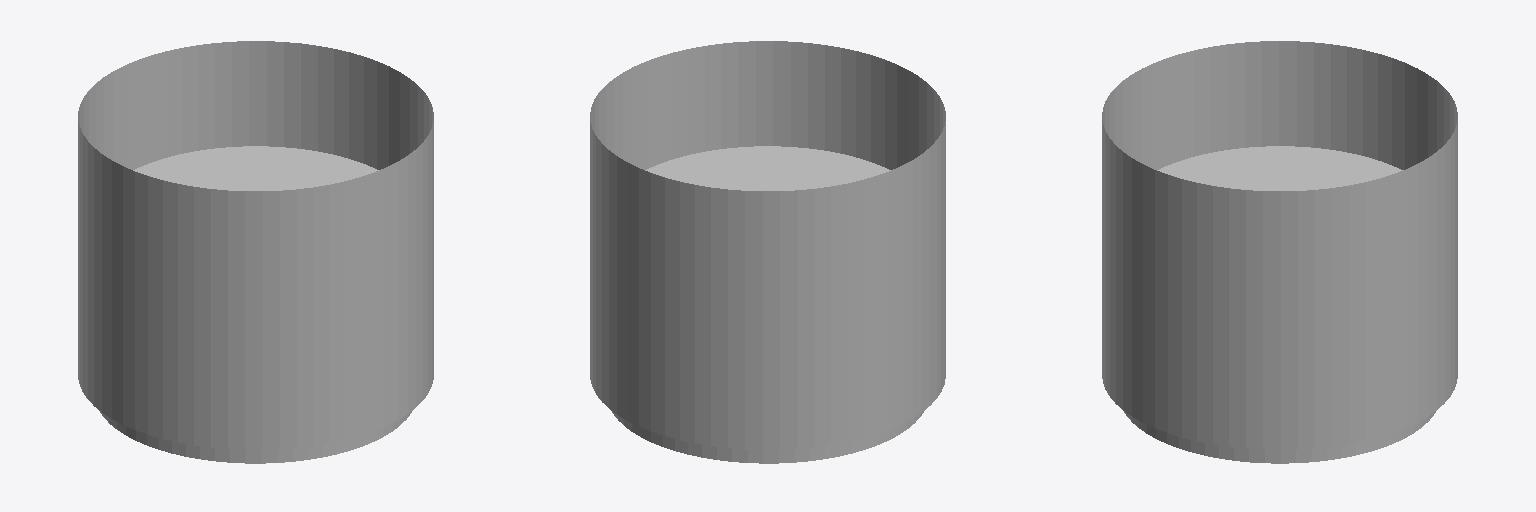
Rendered from drumsetV4_MidDrumBody_Keyframe.obj.
3 views of the same model, side by side, from view 1: azimuth 30°, elevation 25°; view 2: azimuth 150°, elevation 25°; view 3: azimuth 270°, elevation 25° (orthographic).
Visible parts, largest first — view 1: drumsetV4_MidDrumBody_Cylinder.029; view 2: drumsetV4_MidDrumBody_Cylinder.029; view 3: drumsetV4_MidDrumBody_Cylinder.029.
Boxes of the visible parts, x1,y1,x2,y2 form: drumsetV4_MidDrumBody_Cylinder.029: [78, 41, 433, 463]; drumsetV4_MidDrumBody_Cylinder.029: [590, 41, 945, 463]; drumsetV4_MidDrumBody_Cylinder.029: [1102, 41, 1457, 463].
Bounding box in the file's own units: 1.43 × 1.24 × 1.43.